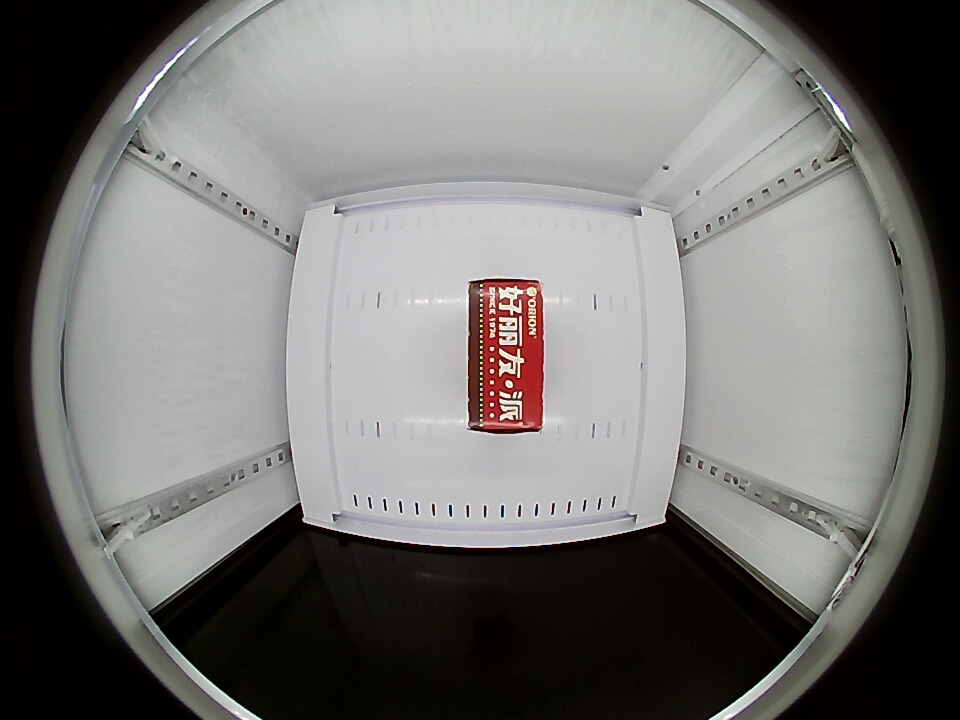haoliyou: (467, 278, 545, 433)
